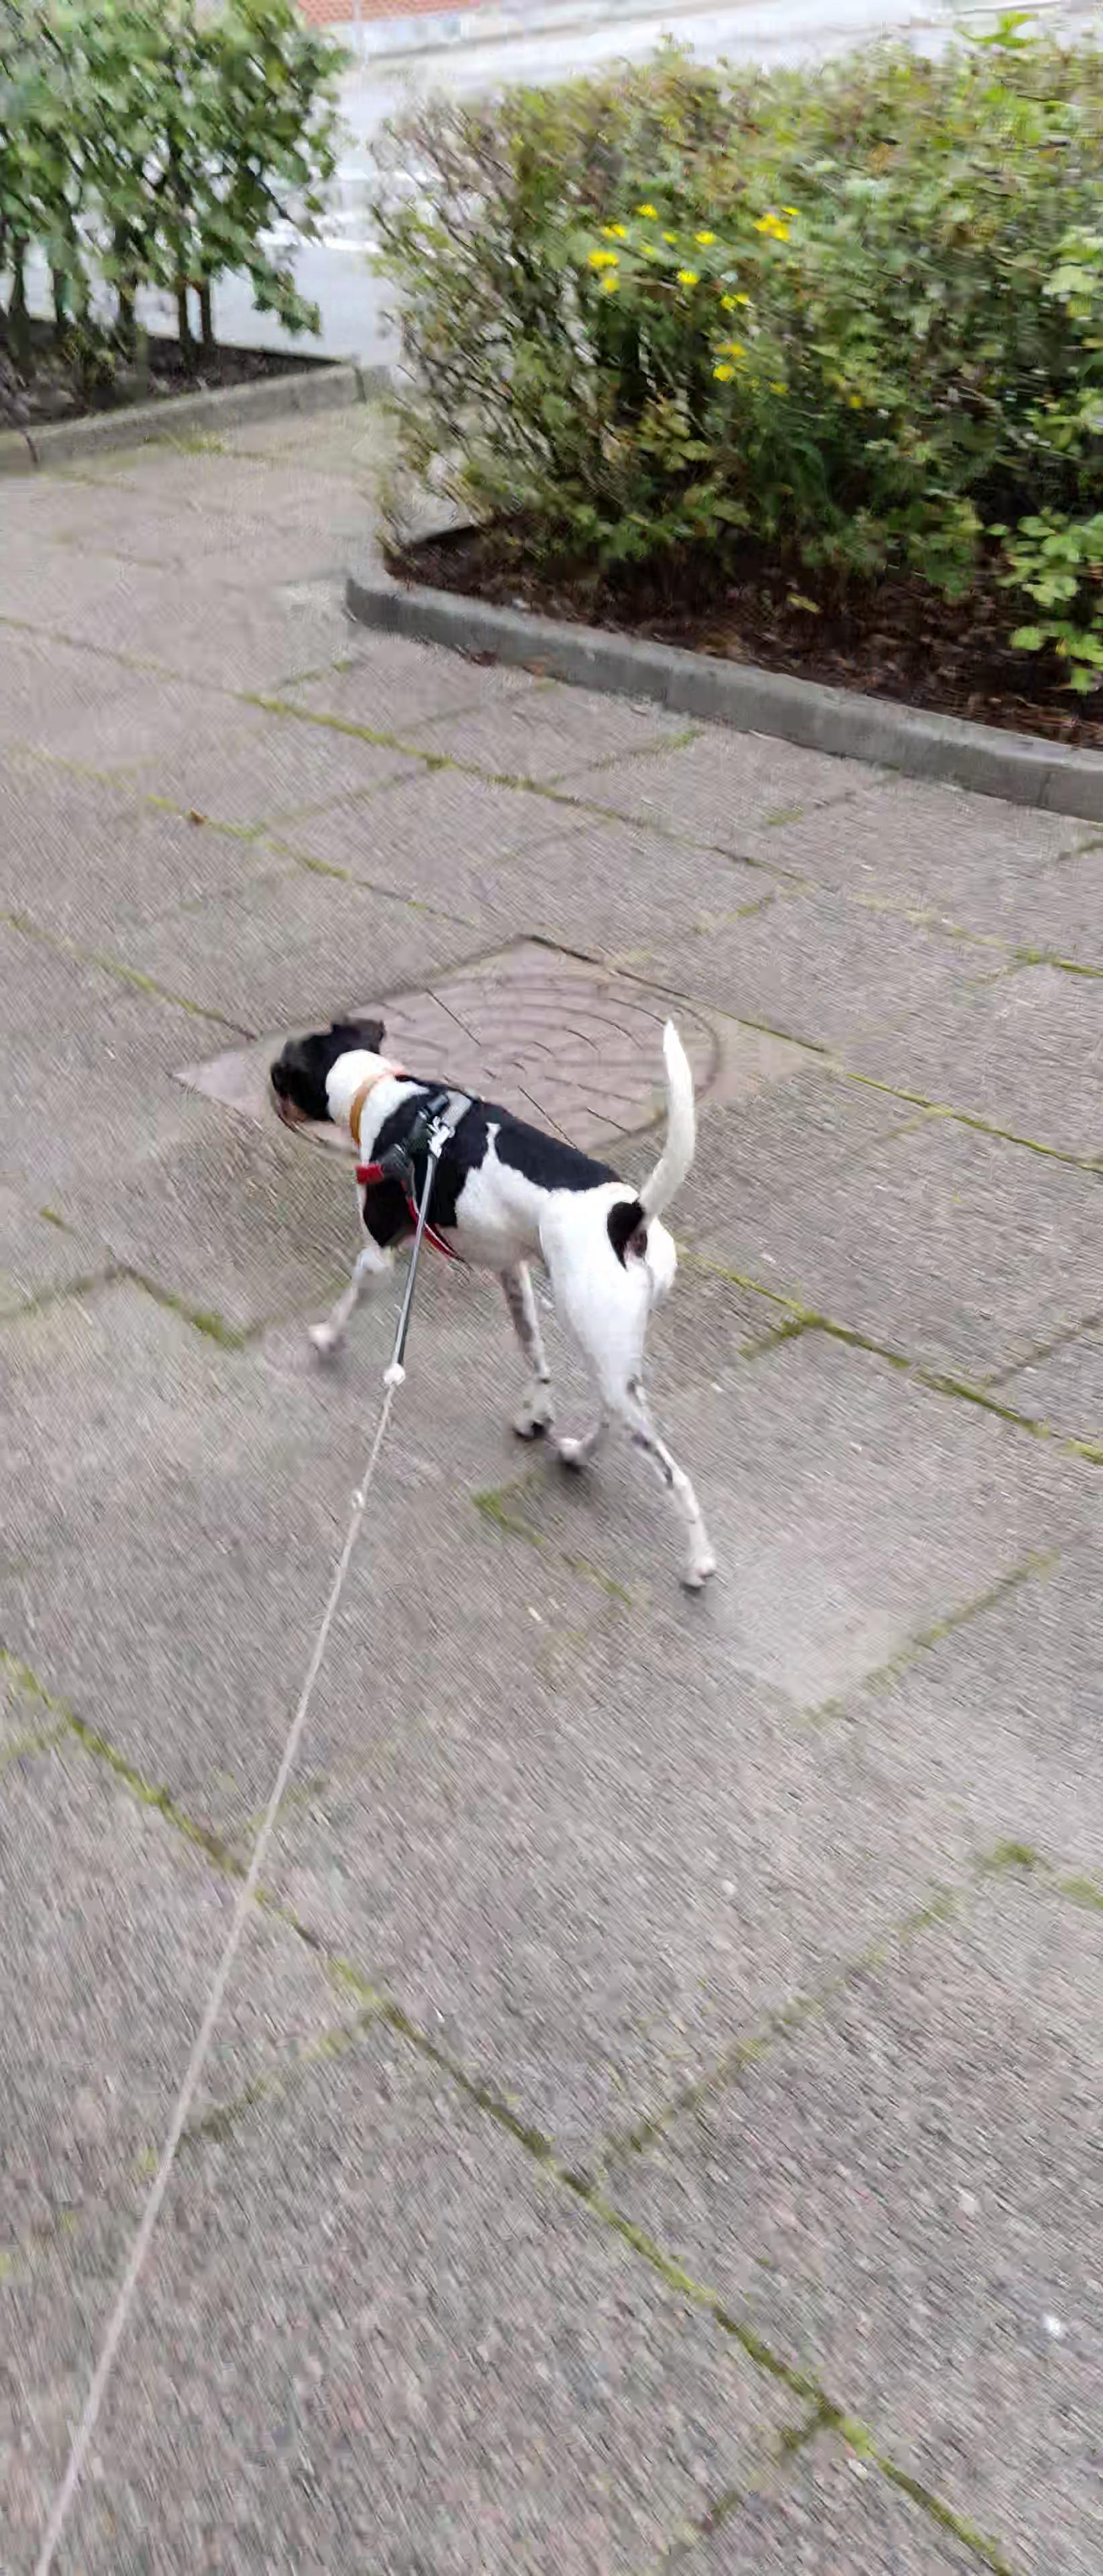Dog: (260, 984, 735, 1605)
